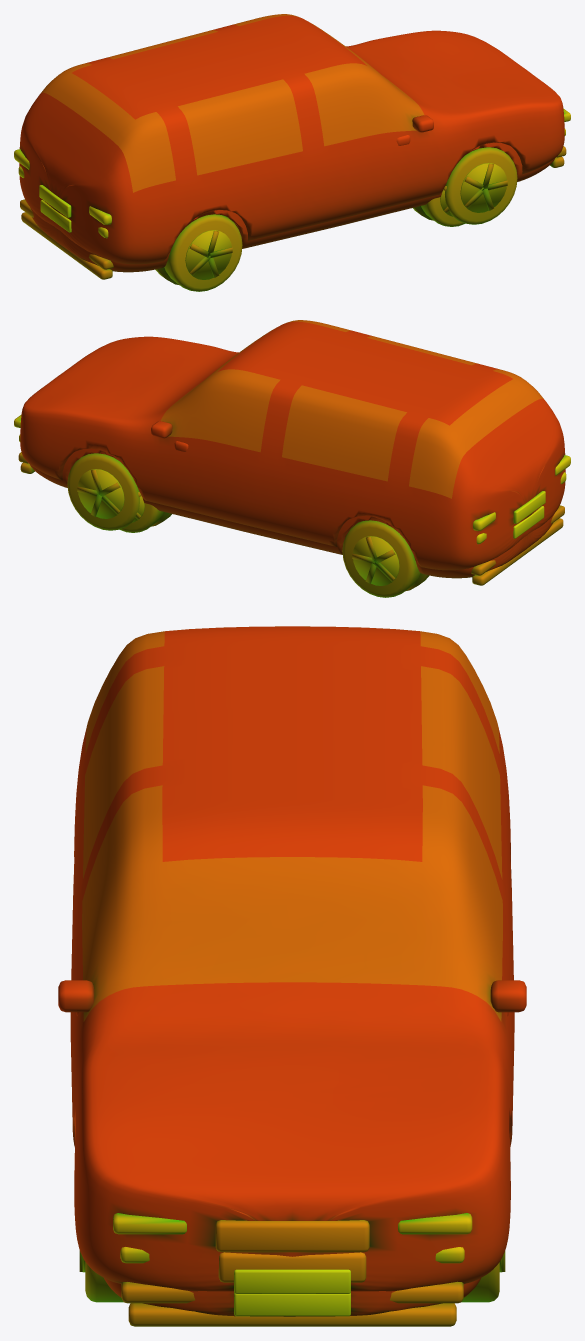
Rendered from cars.glb.
3 renders of one model, top to bottom at view 1: azimuth 30°, elevation 25°; view 2: azimuth 150°, elevation 25°; view 3: azimuth 270°, elevation 25°, orthographic. The views are drawn at different scales.
Parts seen in each view (by area): view 1: suv, sedan, hatchback; view 2: suv, sedan, hatchback; view 3: suv, sedan.
Boxes of the visible parts, x1,y1,x2,y2 form: suv: [14, 14, 570, 291]; sedan: [18, 128, 565, 279]; hatchback: [227, 186, 464, 236]; suv: [14, 320, 570, 597]; sedan: [19, 434, 566, 585]; hatchback: [120, 492, 357, 542]; suv: [58, 626, 526, 1303]; sedan: [76, 1012, 508, 1326].
Size of the model in its own units: 4.91 by 1.78 by 2.08.
